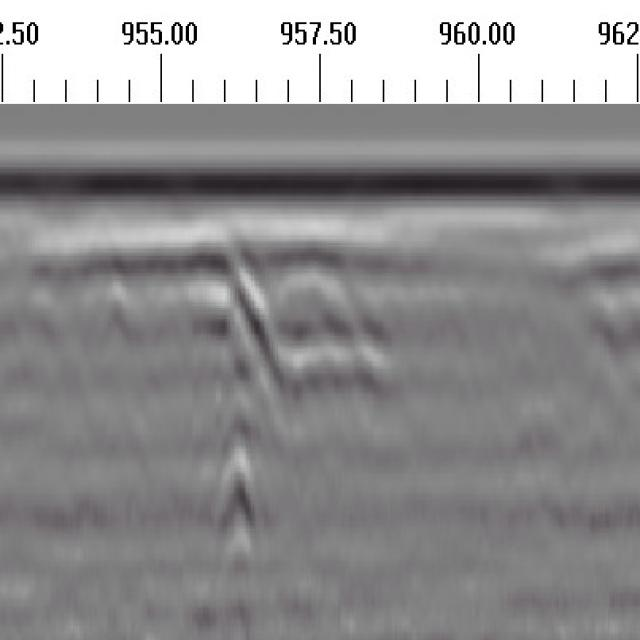crack: (200, 211, 255, 621)
loose: (260, 240, 390, 435)
